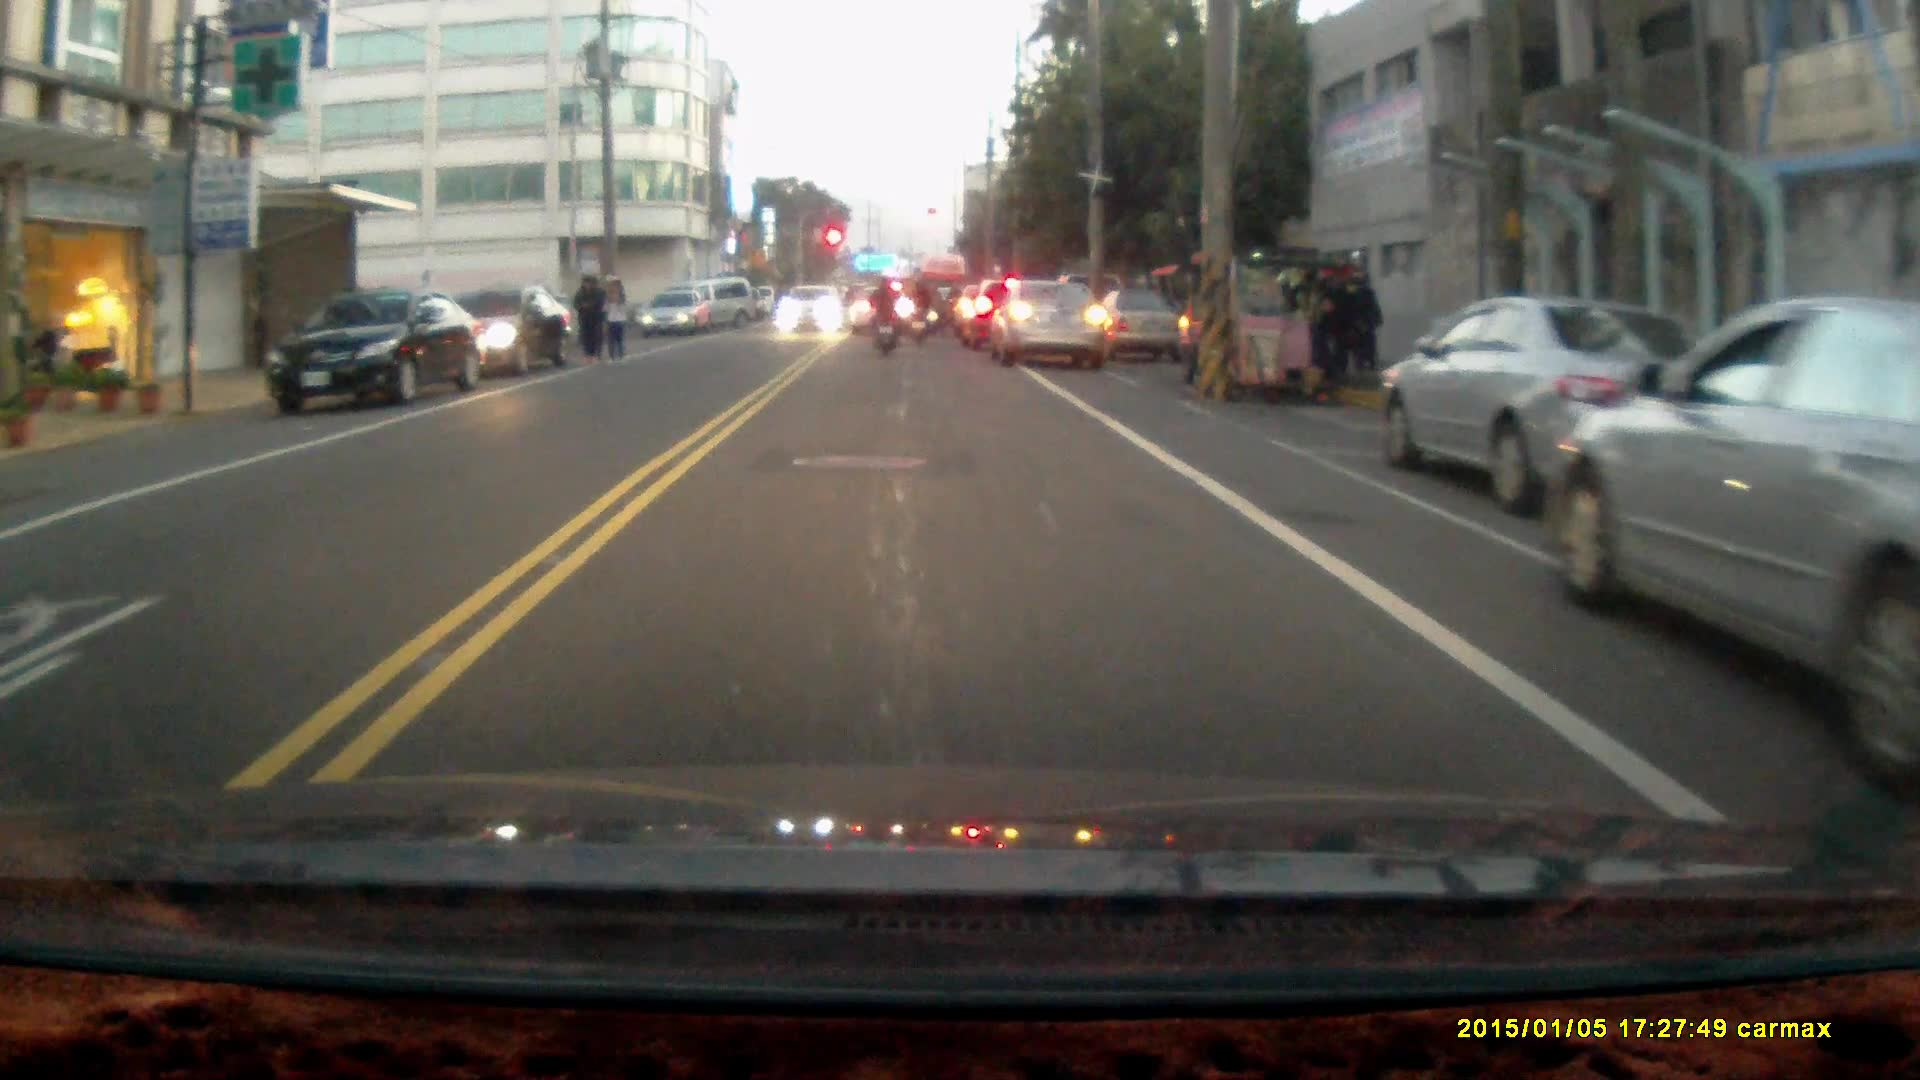pedestrian: (1345, 272, 1384, 383), (569, 273, 605, 369), (603, 275, 629, 365)
rider: (867, 276, 901, 359), (902, 277, 932, 344)
vehicle: (1551, 292, 1920, 774), (1374, 297, 1754, 520), (260, 285, 489, 417), (1174, 259, 1368, 411), (451, 287, 580, 378), (993, 284, 1111, 375), (642, 292, 718, 343), (778, 288, 849, 341)
